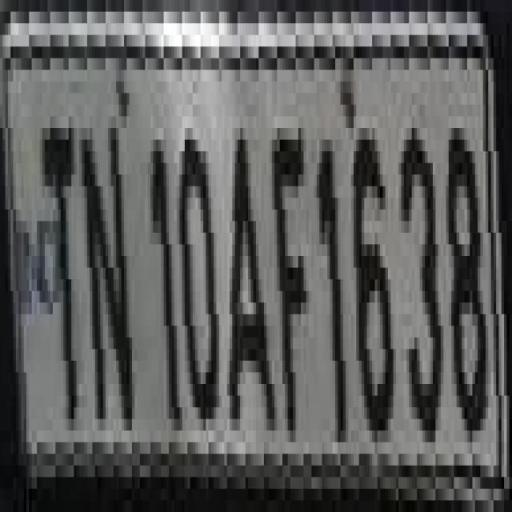number plate: (24, 13, 501, 479)
